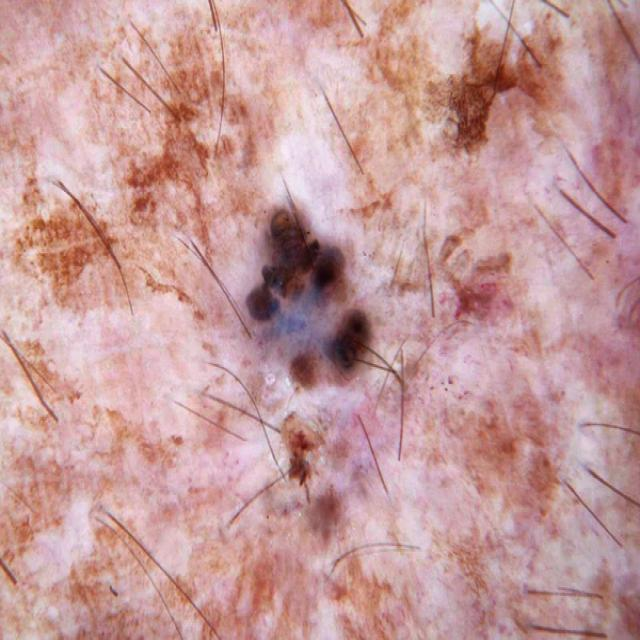Basal-Cell-Carcinoma-BCC-: (111, 71, 560, 553)
